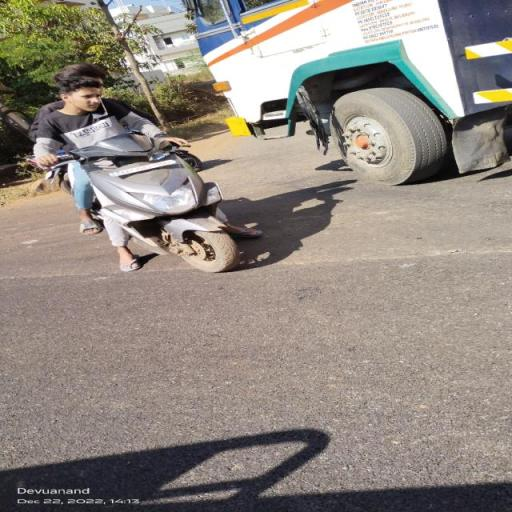bike: (30, 62, 258, 276)
withouthelmet: (63, 78, 103, 110)
